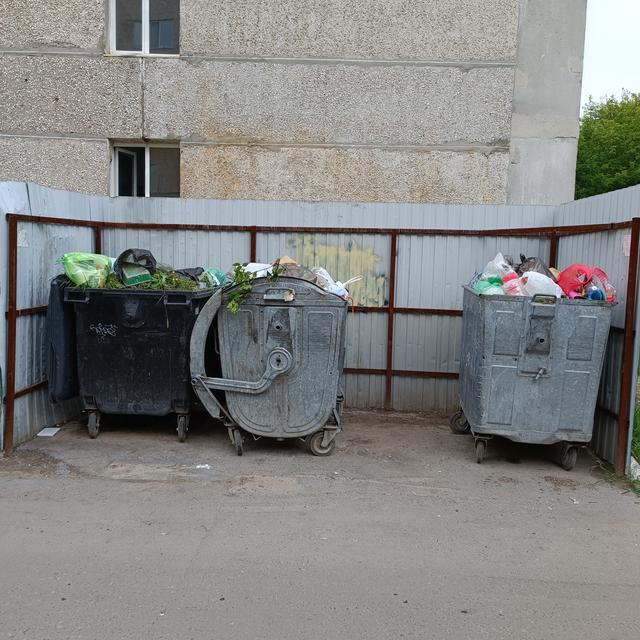Trash_Can_Full: (461, 254, 617, 445), (63, 248, 213, 417), (216, 256, 349, 439)
